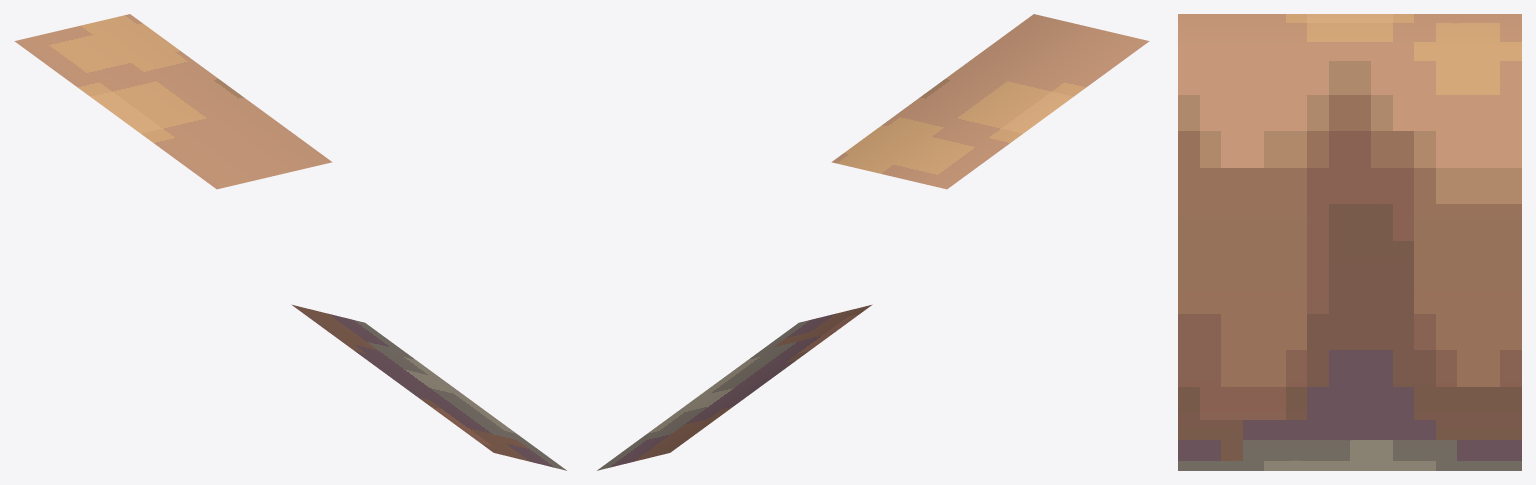
The picture shows the model from 3 angles, left to right: view 1: azimuth 30°, elevation 25°; view 2: azimuth 150°, elevation 25°; view 3: azimuth 270°, elevation 25°; orthographic projection. The views are drawn at different scales.
Size of the model in its own units: 1 by 1 by 1.
1 material, 1 textured.
